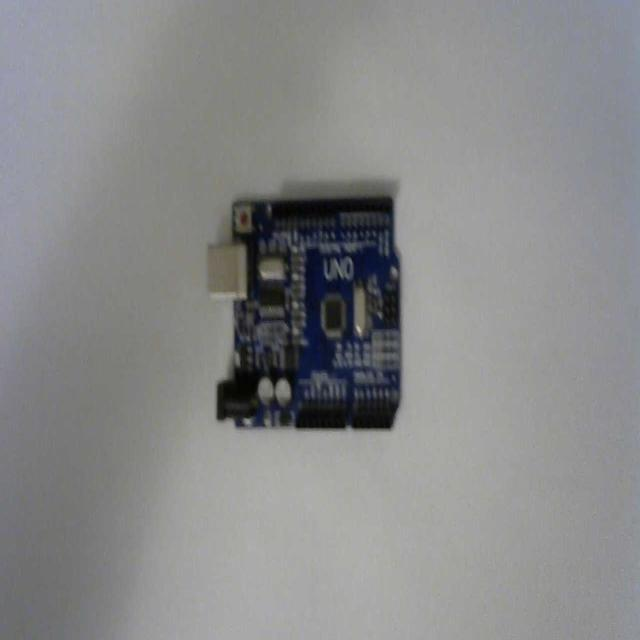arduino: (208, 183, 409, 435)
